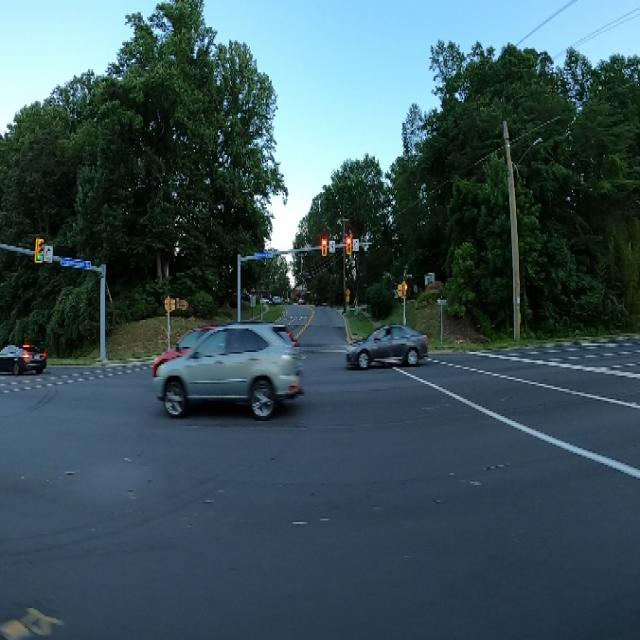car: (146, 322, 309, 423), (341, 315, 432, 377), (0, 318, 50, 384)
